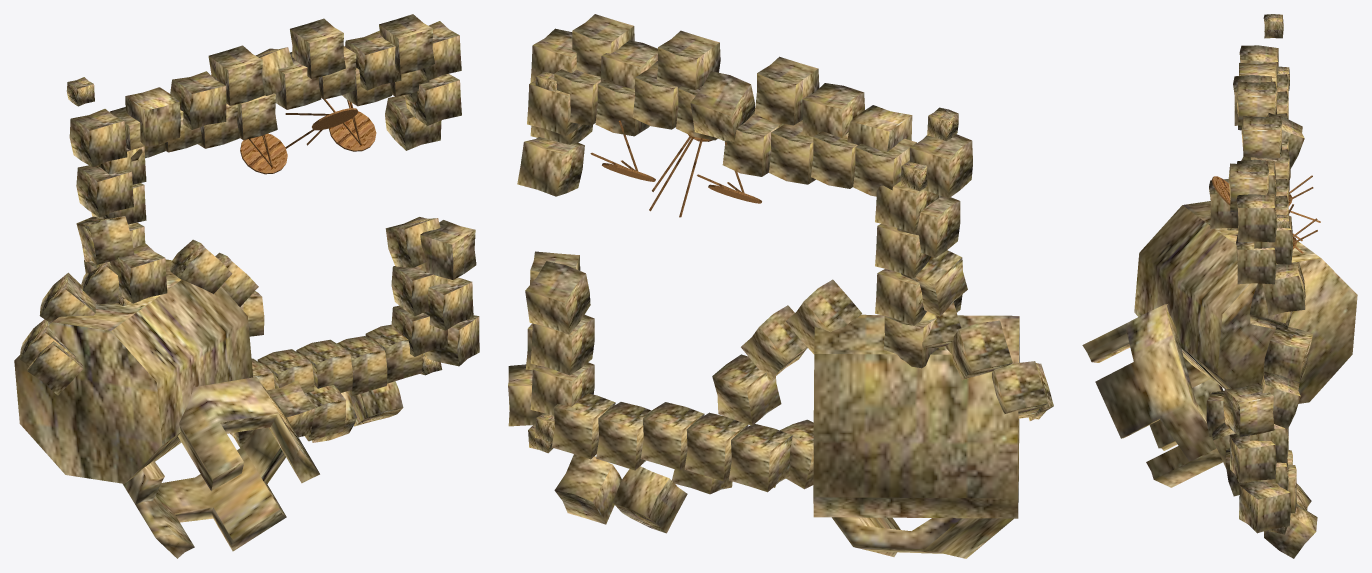
The model's file is archery_000060.obj.
3 views of the same model, side by side, from view 1: azimuth 30°, elevation 25°; view 2: azimuth 150°, elevation 25°; view 3: azimuth 270°, elevation 25° (orthographic). The views are drawn at different scales.
Parts seen in each view (by area): view 1: Cylinder.060_Cylinder.040, Cylinder.110, Cylinder.111, Cylinder.112, Cylinder.100, Cylinder.070, Cylinder.087, Cylinder.083, Cylinder.084, Cylinder.085, Cylinder.099, Cylinder.102 (+33 smaller); view 2: Cylinder.060_Cylinder.040, Cylinder.112, Cylinder.111, Cylinder.110, Cylinder.075, Cylinder.057_Cylinder.032, Cylinder.086, Cylinder.085, Cylinder.063_Cylinder.057, Cylinder.064, Cylinder.074, Cylinder.087 (+35 smaller); view 3: Cylinder.060_Cylinder.040, Cylinder.110, Cylinder.112, Cylinder.068, Cylinder.070, Cylinder.069, Cylinder.071, Cylinder.074, Cylinder.087, Cylinder.072, Cylinder.085, Cylinder.075 (+18 smaller).
Boxes of the visible parts, <box> form: Cylinder.060_Cylinder.040: <box>14,259,252,483</box>; Cylinder.110: <box>123,377,319,558</box>; Cylinder.111: <box>20,261,118,395</box>; Cylinder.112: <box>169,239,264,336</box>; Cylinder.100: <box>69,109,127,166</box>; Cylinder.070: <box>420,220,476,279</box>; Cylinder.087: <box>290,18,345,78</box>; Cylinder.083: <box>125,87,180,146</box>; Cylinder.084: <box>170,71,226,129</box>; Cylinder.085: <box>208,45,264,105</box>; Cylinder.099: <box>76,165,133,217</box>; Cylinder.102: <box>110,243,167,303</box>; Cylinder.060_Cylinder.040: <box>813,314,1019,518</box>; Cylinder.112: <box>712,279,861,425</box>; Cylinder.111: <box>919,302,1053,420</box>; Cylinder.110: <box>832,517,1013,558</box>; Cylinder.075: <box>525,261,590,334</box>; Cylinder.057_Cylinder.032: <box>729,424,792,492</box>; Cylinder.086: <box>690,71,755,141</box>; Cylinder.085: <box>754,56,819,125</box>; Cylinder.063_Cylinder.057: <box>554,454,621,524</box>; Cylinder.064: <box>613,466,687,533</box>; Cylinder.074: <box>517,137,584,196</box>; Cylinder.087: <box>656,30,720,96</box>; Cylinder.060_Cylinder.040: <box>1134,201,1357,403</box>; Cylinder.110: <box>1082,304,1223,487</box>; Cylinder.112: <box>1249,264,1312,381</box>; Cylinder.068: <box>1239,481,1290,533</box>; Cylinder.070: <box>1223,383,1274,436</box>; Cylinder.069: <box>1229,434,1276,483</box>; Cylinder.071: <box>1236,193,1276,242</box>; Cylinder.074: <box>1262,262,1305,315</box>; Cylinder.087: <box>1241,116,1281,160</box>; Cylinder.072: <box>1236,236,1276,284</box>; Cylinder.085: <box>1236,81,1276,130</box>; Cylinder.075: <box>1260,371,1300,428</box>.
Bounding box in the file's own units: 11.77 × 10.95 × 6.4.
